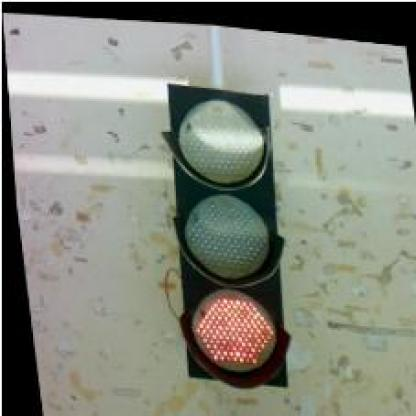red: (148, 74, 299, 388)
